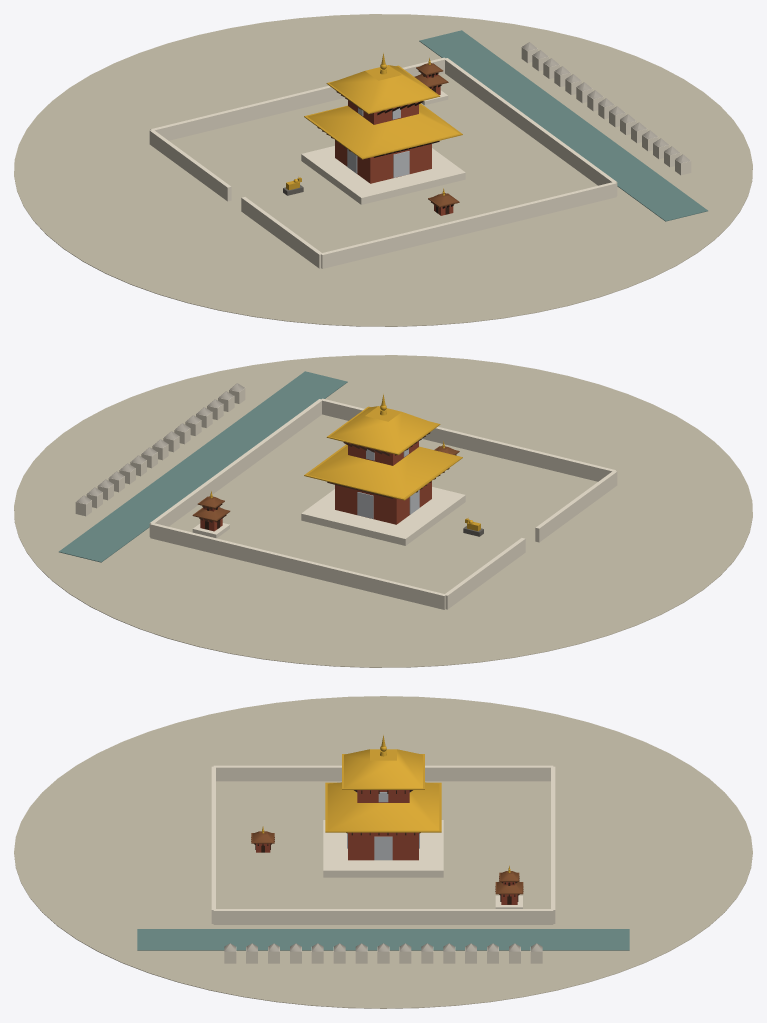
File: pashupatinath.gltf
The picture shows the model from 3 angles, top to bottom: view 1: azimuth 30°, elevation 25°; view 2: azimuth 150°, elevation 25°; view 3: azimuth 270°, elevation 25°; orthographic projection.
Parts seen in each view (by area): view 1: ground, object 150, object 2, object 44, object 6, object 1, object 3, object 75, object 7, object 4, object 5, object 45 (+1 smaller); view 2: ground, object 150, object 1, object 44, object 6, object 2, object 3, object 75, object 7, object 5, object 4, object 45 (+1 smaller); view 3: ground, object 150, object 3, object 44, object 6, object 75, object 4, object 5, object 7, object 1, object 2, object 45 (+1 smaller).
Part boxes in pixels (<box>): ground: <box>14,14,752,326</box>; object 150: <box>419,30,707,221</box>; object 2: <box>320,182,616,268</box>; object 44: <box>307,104,459,157</box>; object 6: <box>301,146,465,204</box>; object 1: <box>150,57,445,140</box>; object 3: <box>444,58,617,195</box>; object 75: <box>329,65,437,112</box>; object 7: <box>335,140,431,183</box>; object 4: <box>149,130,231,201</box>; object 5: <box>241,197,321,268</box>; object 45: <box>304,103,462,159</box>; ground: <box>14,355,752,667</box>; object 150: <box>59,371,347,562</box>; object 1: <box>150,523,446,609</box>; object 44: <box>307,445,459,498</box>; object 6: <box>301,487,465,545</box>; object 2: <box>321,398,616,481</box>; object 3: <box>149,399,321,536</box>; object 75: <box>329,406,437,453</box>; object 7: <box>335,481,431,524</box>; object 5: <box>535,471,617,542</box>; object 4: <box>444,538,525,609</box>; object 45: <box>304,444,462,500</box>; ground: <box>14,696,752,1008</box>; object 150: <box>137,929,629,950</box>; object 3: <box>213,909,553,924</box>; object 44: <box>327,782,439,830</box>; object 6: <box>323,820,443,877</box>; object 75: <box>344,749,422,788</box>; object 4: <box>425,765,553,781</box>; object 5: <box>213,765,341,781</box>; object 7: <box>348,832,418,860</box>; object 1: <box>551,766,555,923</box>; object 2: <box>211,766,215,923</box>; object 45: <box>325,782,441,832</box>.
Bounding box in the file's own units: 135 × 23.8 × 135.
